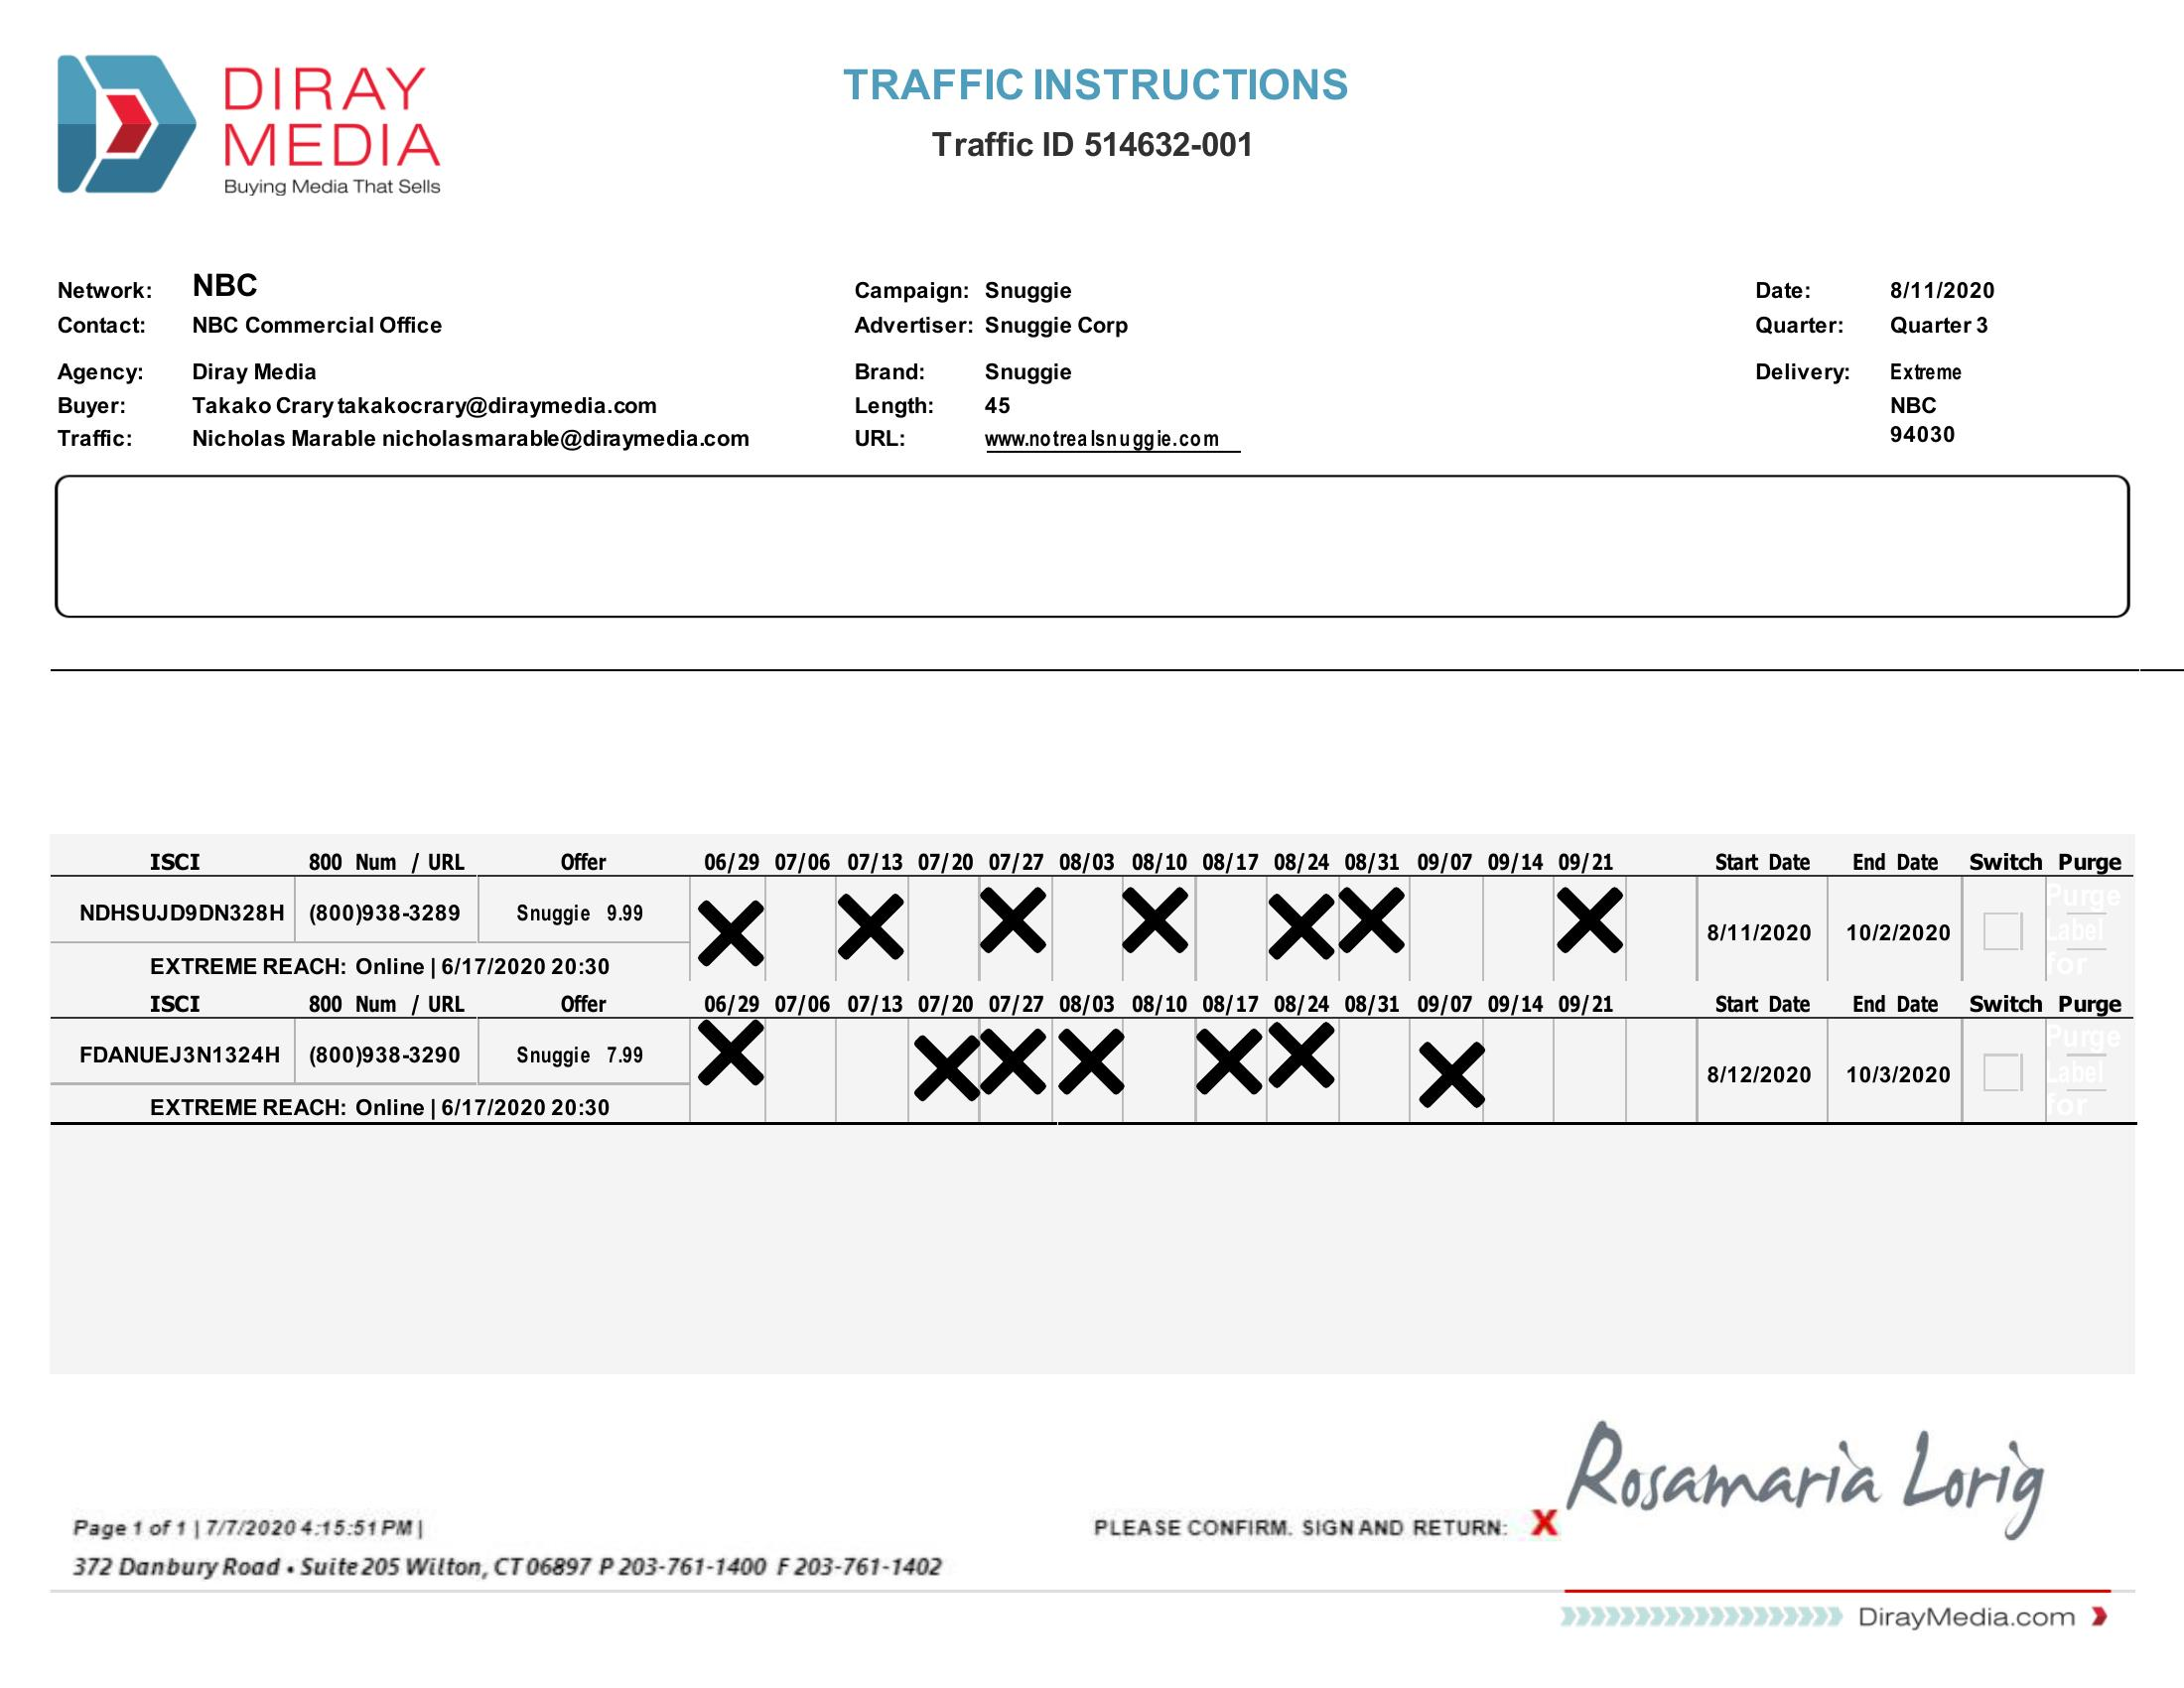table: (34, 816, 2154, 1153), (43, 254, 2017, 456)
